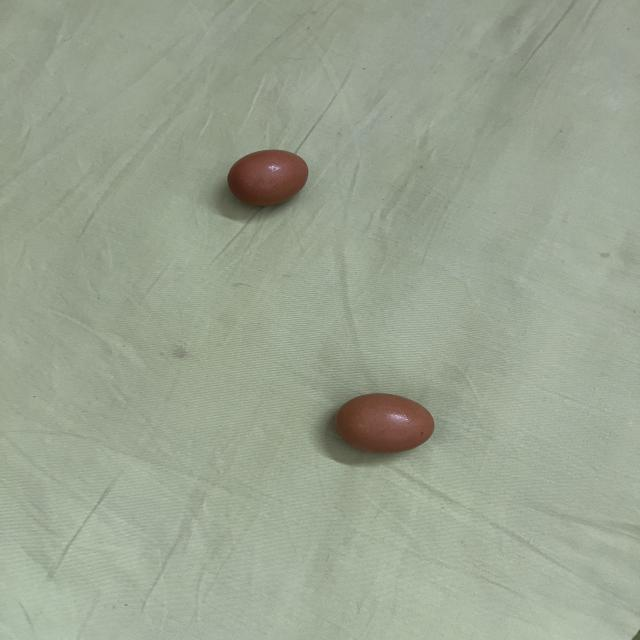egg: (330, 386, 440, 456), (222, 143, 311, 210)
